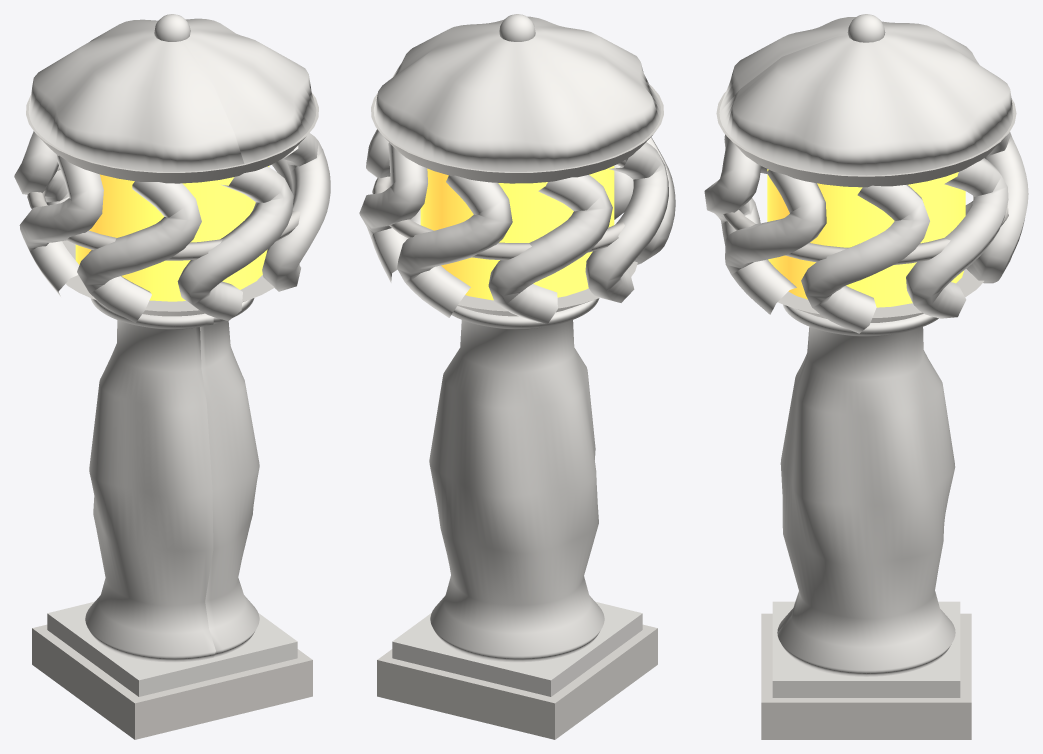
3 renders of one model, left to right at view 1: azimuth 30°, elevation 25°; view 2: azimuth 150°, elevation 25°; view 3: azimuth 270°, elevation 25°, orthographic. The views are drawn at different scales.
Visible parts, largest first — view 1: fut-torse, chapeau-dome, socle, lumiere-foyer, tete-volute-3, socle-gradin, tete-volute-2, tete-volute-4, tete-volute-1, chapeau-bord, tete-volute-5, tete-bague (+2 smaller); view 2: fut-torse, chapeau-dome, socle, tete-volute-5, lumiere-foyer, socle-gradin, tete-volute-6, tete-volute-4, tete-volute-7, chapeau-bord, tete-bague, tete-coupelle (+4 smaller); view 3: fut-torse, chapeau-dome, socle, lumiere-foyer, tete-volute-0, tete-volute-7, socle-gradin, tete-volute-1, tete-volute-6, chapeau-bord, tete-volute-2, tete-bague (+2 smaller).
Part boxes in pixels (bbox=[...]): fut-torse: bbox=[85, 298, 259, 662]; chapeau-dome: bbox=[28, 18, 316, 171]; socle: bbox=[32, 624, 312, 739]; lumiere-foyer: bbox=[75, 166, 269, 301]; tete-volute-3: bbox=[77, 181, 201, 322]; socle-gradin: bbox=[47, 601, 297, 696]; tete-volute-2: bbox=[177, 166, 293, 320]; tete-volute-4: bbox=[19, 155, 103, 296]; tete-volute-1: bbox=[262, 133, 330, 291]; chapeau-bord: bbox=[26, 93, 318, 183]; tete-volute-5: bbox=[14, 131, 68, 205]; tete-bague: bbox=[27, 166, 300, 260]; fut-torse: bbox=[429, 298, 604, 662]; chapeau-dome: bbox=[373, 16, 661, 171]; socle: bbox=[377, 624, 657, 739]; tete-volute-5: bbox=[488, 175, 612, 323]; lumiere-foyer: bbox=[420, 166, 614, 300]; socle-gradin: bbox=[392, 601, 642, 696]; tete-volute-6: bbox=[397, 175, 512, 317]; tete-volute-4: bbox=[585, 142, 668, 302]; tete-volute-7: bbox=[359, 142, 427, 282]; chapeau-bord: bbox=[371, 84, 663, 183]; tete-bague: bbox=[372, 160, 626, 260]; tete-coupelle: bbox=[457, 261, 637, 316]; fut-torse: bbox=[777, 304, 955, 676]; chapeau-dome: bbox=[719, 17, 1013, 175]; socle: bbox=[761, 613, 971, 739]; lumiere-foyer: bbox=[767, 169, 965, 307]; tete-volute-0: bbox=[801, 184, 929, 333]; tete-volute-7: bbox=[906, 158, 1008, 318]; socle-gradin: bbox=[772, 601, 960, 697]; tete-volute-1: bbox=[725, 170, 826, 314]; tete-volute-6: bbox=[966, 132, 1028, 283]; chapeau-bord: bbox=[716, 92, 1016, 187]; tete-volute-2: bbox=[704, 138, 761, 245]; tete-bague: bbox=[723, 203, 1008, 264].
Bounding box in the file's own units: 0.3456 × 0.8 × 0.3456.
